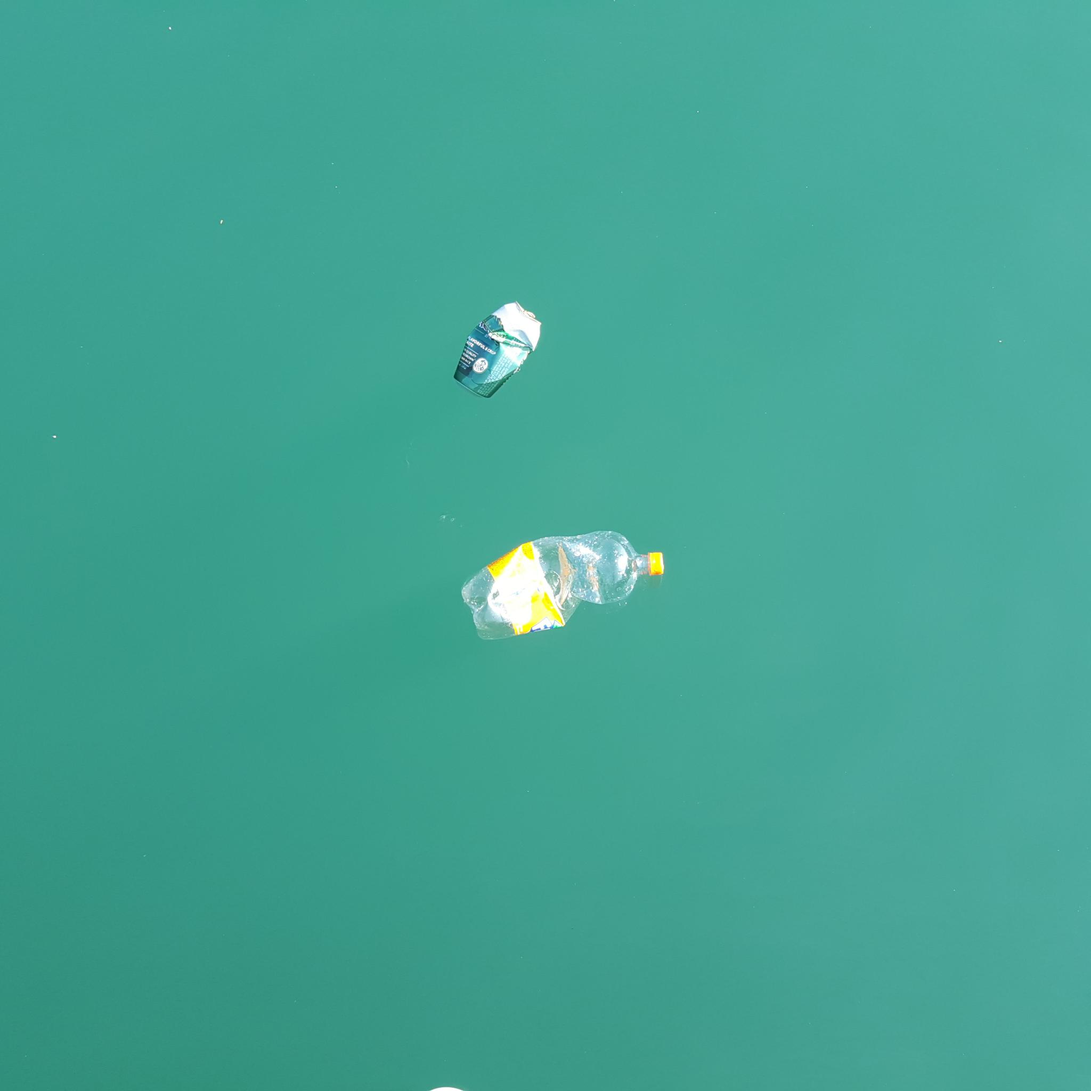sampah_terapung: (462, 531, 664, 640), (454, 301, 543, 400)
